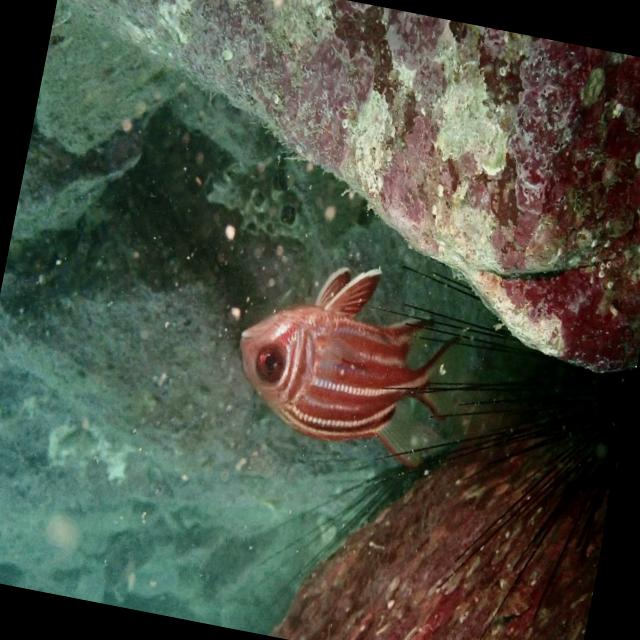Asker Baligi: (211, 232, 496, 492)
